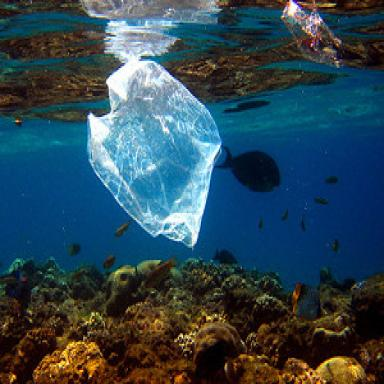plasticbag: (82, 49, 221, 248)
